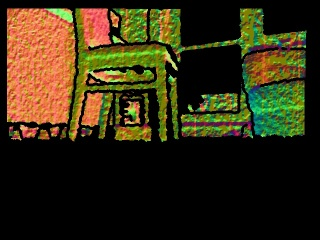station: (111, 90, 154, 142)
